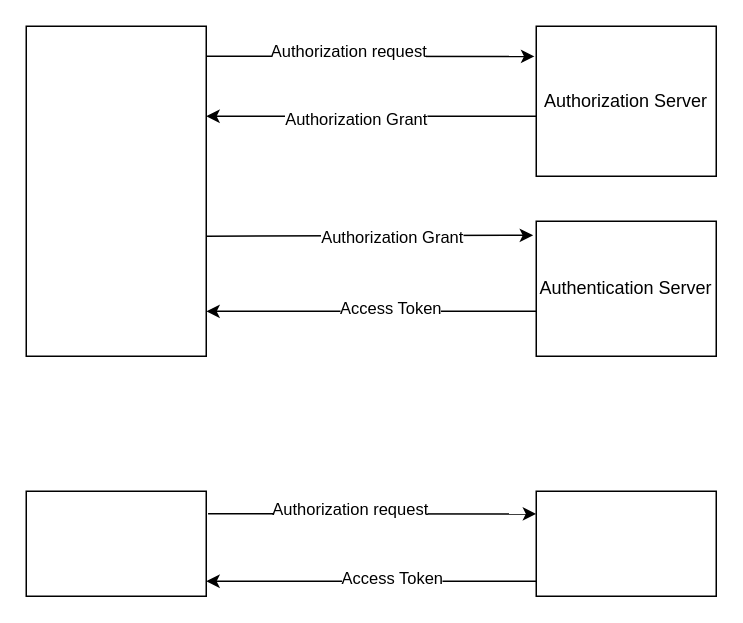
The diagram is 743 pixels wide and 623 high, and some of its shapes have lost their labels. Each missing label, with the centre of its shape:
Application: pixel 115 190
Token Provider Service: pixel 115 543
